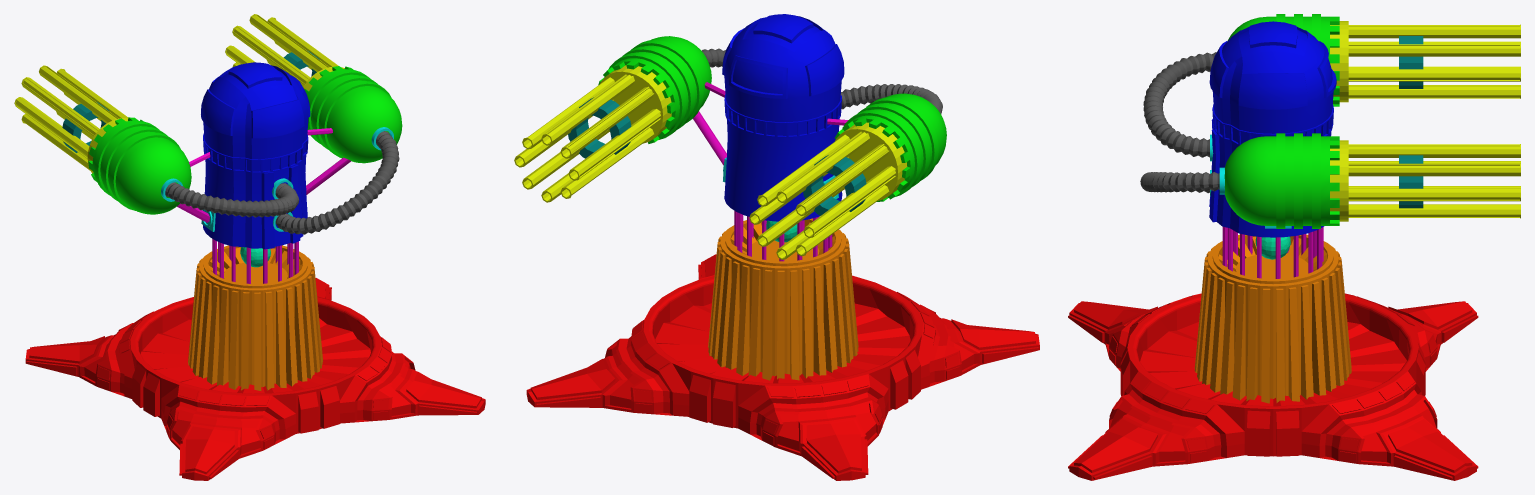
The model's file is Turrel.fbx.
The picture shows the model from 3 angles, left to right: view 1: azimuth 30°, elevation 25°; view 2: azimuth 150°, elevation 25°; view 3: azimuth 270°, elevation 25°; orthographic projection. The views are drawn at different scales.
Visible parts, largest first — view 1: PLatform.003, Cylinder.023, Turrel.003, Cube.033, Cube.040, Cube.034, Cylinder.028, Cylinder.027, Cylinder.024, Cylinder.025, Cube.041; view 2: PLatform.003, Turrel.003, Cylinder.023, Cube.033, Cube.034, Cube.040, Cylinder.027, Cylinder.024, Cube.039, Cube.041; view 3: PLatform.003, Cylinder.023, Turrel.003, Cube.033, Cube.034, Cube.040, Cylinder.027, Cylinder.024, Cylinder.028, Cube.041, Cube.039, Cube.032.
Boxes of the visible parts, x1,y1,x2,y2 form: PLatform.003: (25, 278, 485, 480); Cylinder.023: (188, 245, 322, 390); Turrel.003: (201, 62, 310, 249); Cube.033: (88, 66, 402, 214); Cube.040: (14, 65, 128, 173); Cube.034: (225, 14, 344, 90); Cylinder.028: (275, 131, 399, 234); Cylinder.027: (165, 182, 299, 217); Cylinder.024: (212, 239, 298, 283); Cylinder.025: (177, 157, 351, 222); Cube.041: (62, 102, 109, 152); PLatform.003: (526, 254, 1039, 480); Turrel.003: (722, 14, 844, 221); Cylinder.023: (708, 218, 858, 380); Cube.033: (598, 36, 946, 201); Cube.034: (514, 65, 671, 202); Cube.040: (749, 122, 907, 259); Cylinder.027: (840, 84, 942, 114); Cylinder.024: (734, 211, 832, 261); Cube.039: (568, 97, 631, 158); Cube.041: (803, 155, 866, 215); PLatform.003: (1068, 293, 1478, 480); Cylinder.023: (1194, 234, 1351, 403); Turrel.003: (1209, 21, 1336, 237); Cube.033: (1224, 14, 1339, 228); Cube.034: (1330, 140, 1520, 221); Cube.040: (1330, 21, 1520, 102); Cylinder.027: (1143, 52, 1216, 157); Cylinder.024: (1222, 226, 1323, 278); Cylinder.028: (1140, 172, 1219, 193); Cube.041: (1399, 36, 1423, 88); Cube.039: (1399, 155, 1423, 208); Cube.032: (1255, 236, 1290, 259).
Size of the model in its own units: 281 by 279 by 311.
